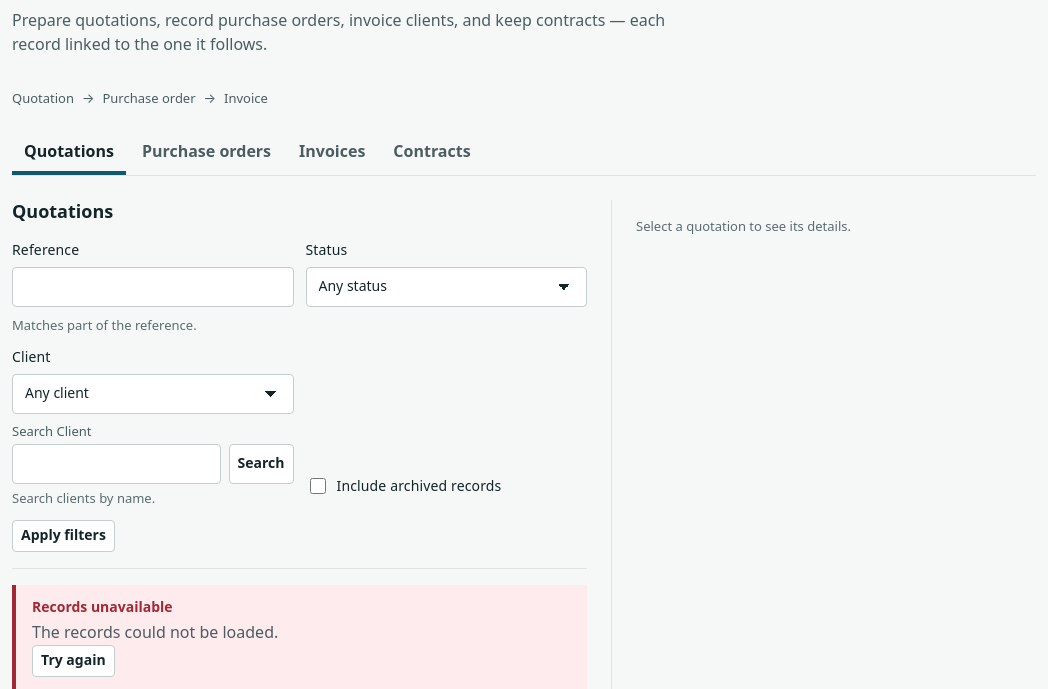
Test: CommercialPanel: lists and states › filters on the server and shows loading, error with retry, and empty states
(page scrolled)
Expected: the text "Records unavailable" is shown, [32,597,173,616]
Click the button "Try again".
click(73, 661)  # box [32,645,115,677]
(page scrolled)
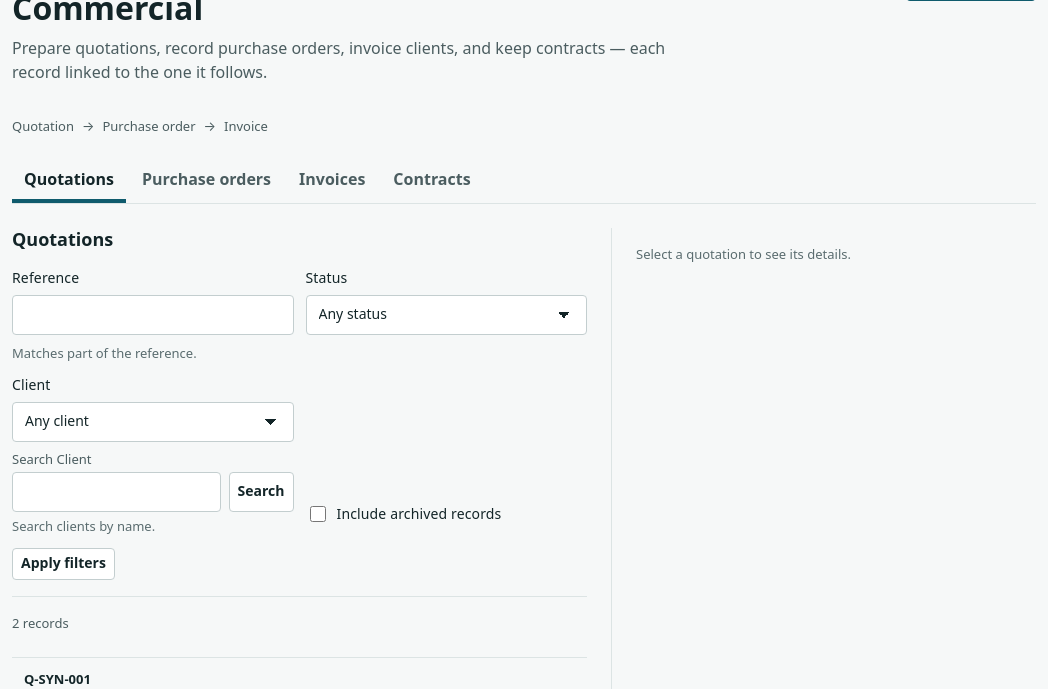
Type "NONE" into the search field labelled "Reference".
click(153, 314); type("NONE")  # box [12,294,294,334]
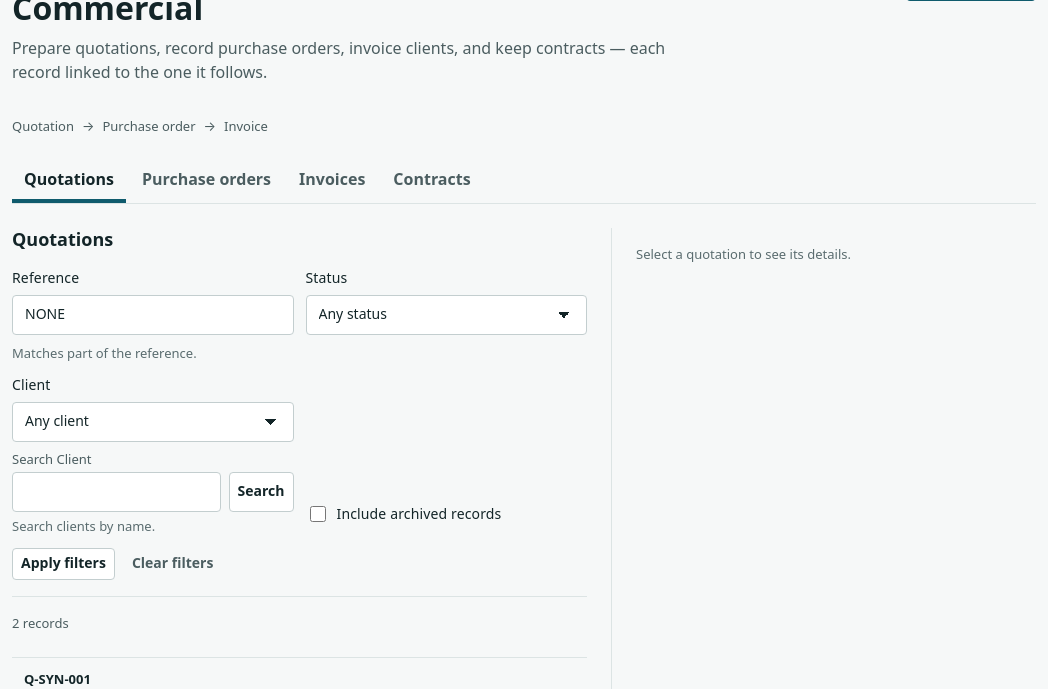
Select "Archived" in the dropdown labelled "Status" at {"x": 446, "y": 314}, box [306,294,587,334]
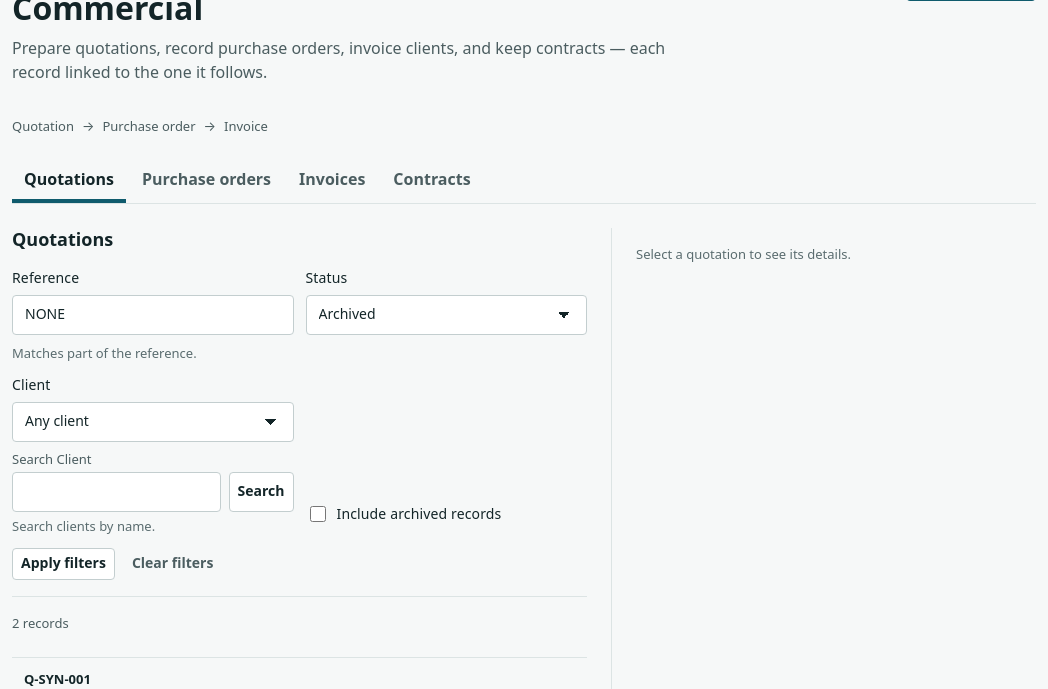
Click the button "Apply filters".
click(63, 564)  # box [12,548,115,580]
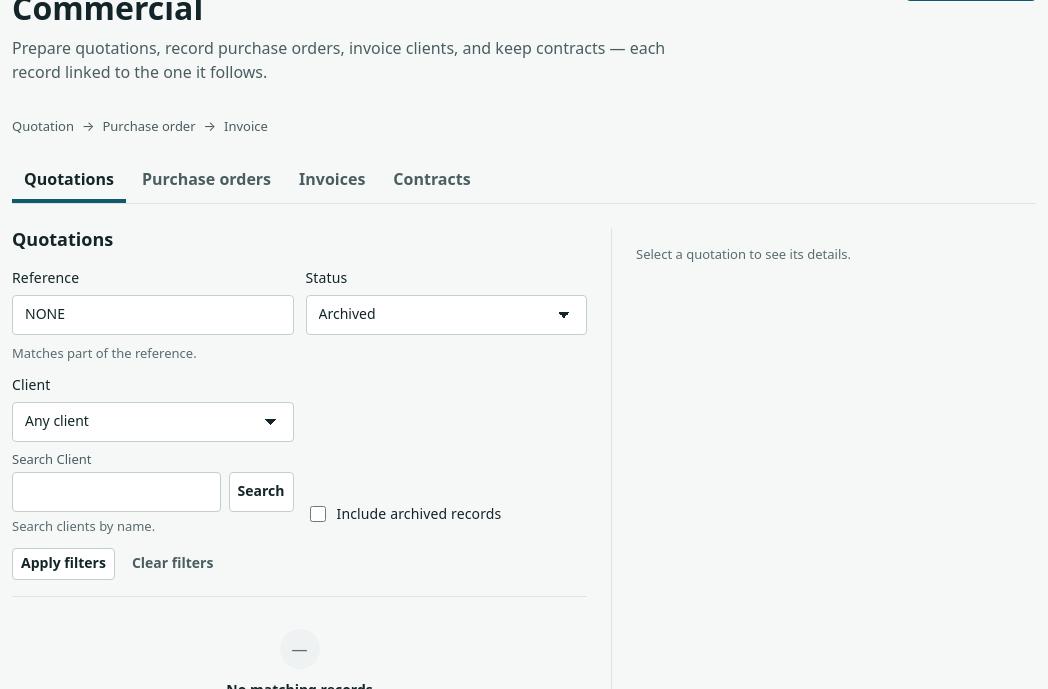
Click the button "Clear filters".
click(173, 564)  # box [123,548,222,580]
(page scrolled)
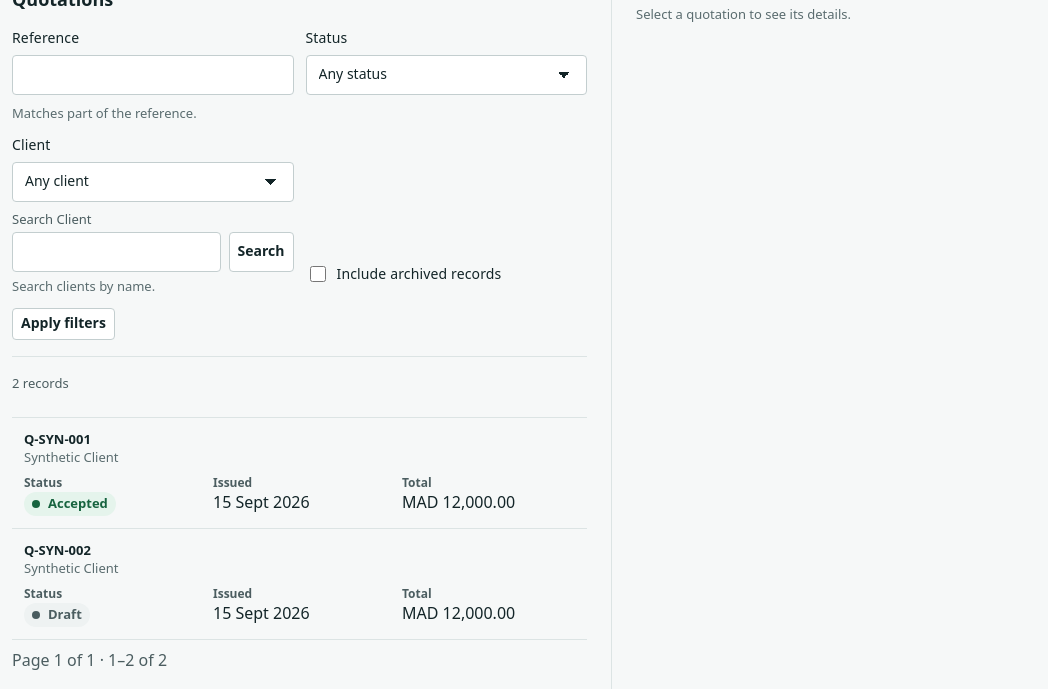
Now the table named "Quotations" is shown, box [12,417,587,640]
